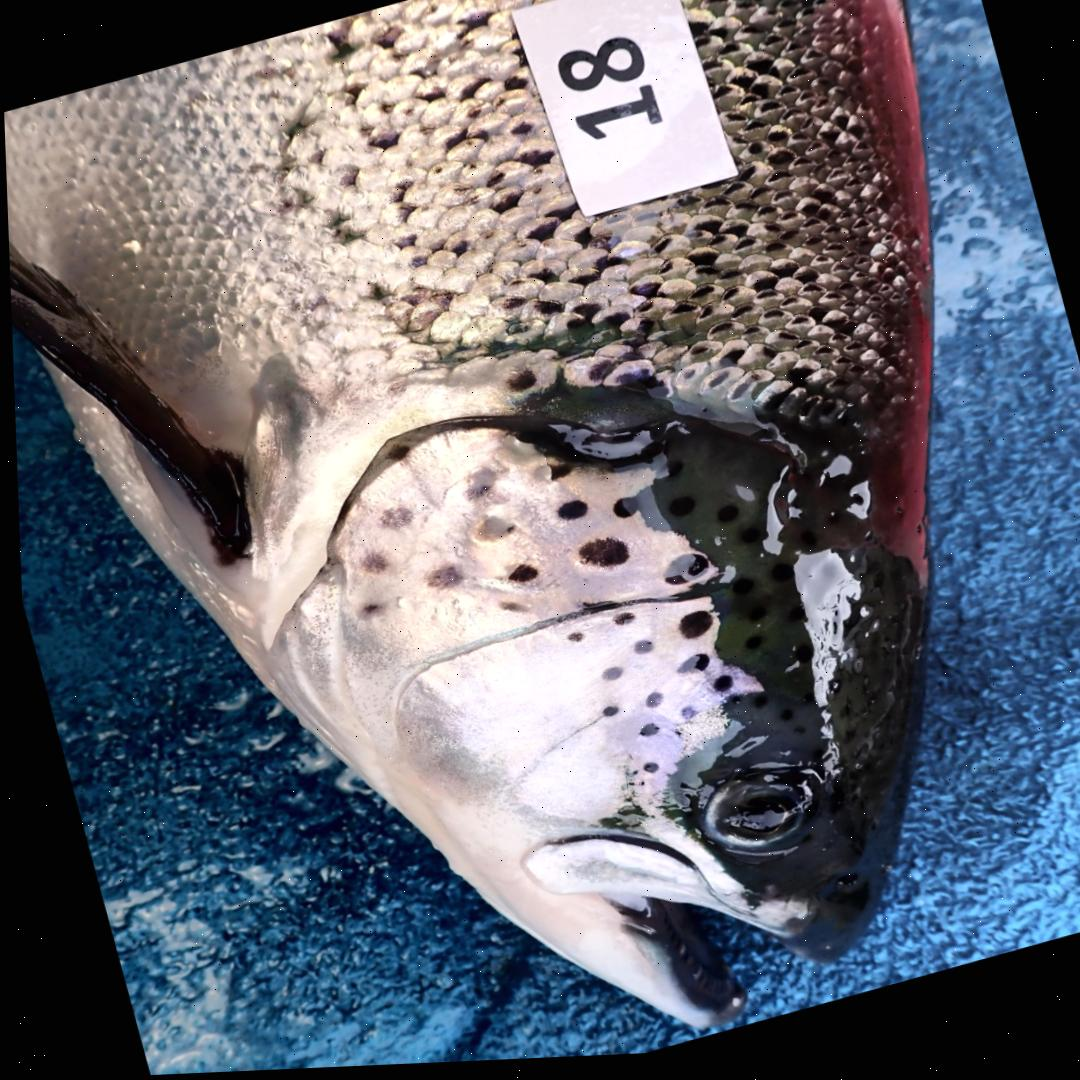spot: (573, 541, 624, 572), (659, 558, 704, 590), (669, 647, 708, 680), (529, 457, 570, 486), (469, 518, 510, 545), (672, 616, 707, 644), (461, 471, 491, 503), (420, 567, 457, 592), (374, 508, 410, 532), (354, 553, 384, 577), (552, 504, 584, 524), (503, 567, 534, 587), (607, 502, 630, 523), (575, 603, 609, 617), (706, 680, 727, 698), (494, 604, 522, 617), (633, 726, 654, 743), (383, 447, 405, 463), (626, 643, 647, 658), (674, 709, 692, 726), (640, 696, 657, 713), (607, 617, 628, 630), (596, 672, 617, 685), (595, 709, 613, 722), (356, 606, 373, 617), (636, 767, 652, 778), (563, 637, 578, 646)
